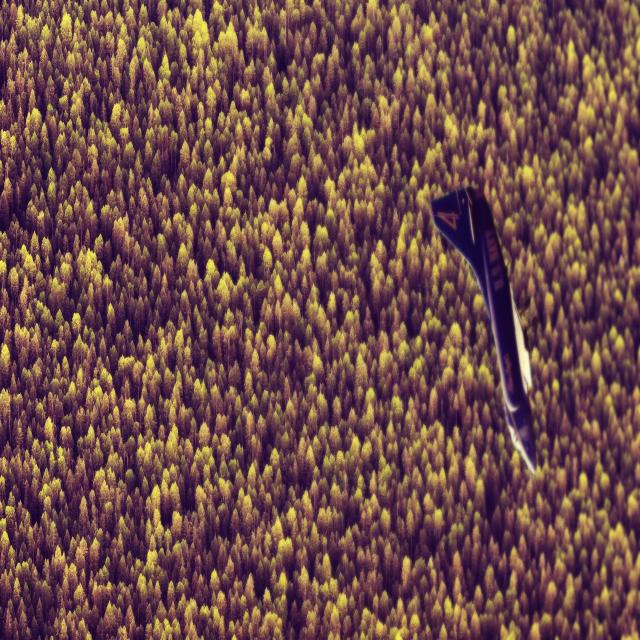airplane: (429, 184, 537, 476)
